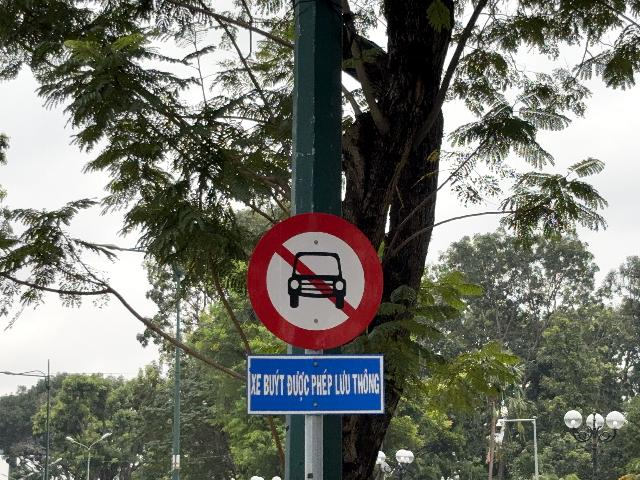cam-o-to: (247, 212, 384, 350)
